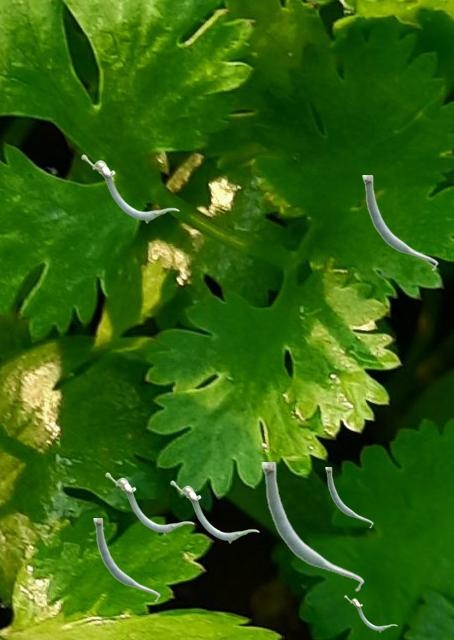french_bean: (261, 462, 363, 591), (362, 175, 437, 270), (81, 154, 178, 222), (93, 518, 159, 601), (170, 480, 258, 542), (105, 472, 193, 534), (325, 467, 372, 527), (344, 595, 396, 631)
